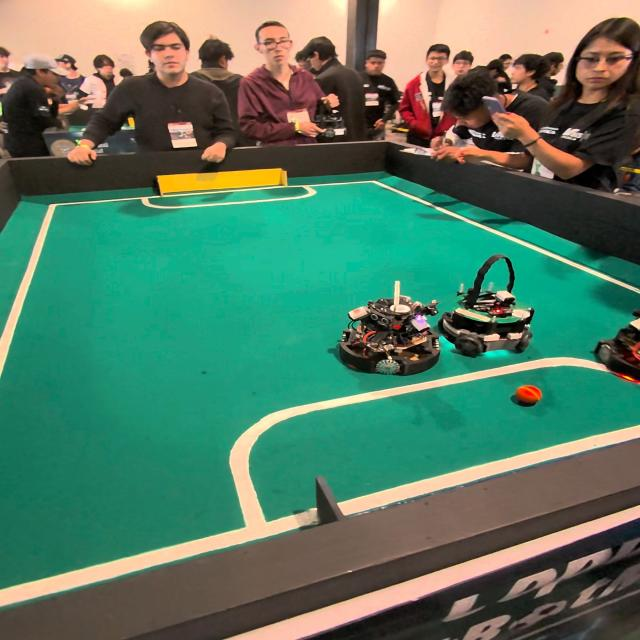Robot: (447, 244, 532, 361), (336, 282, 438, 379), (599, 304, 640, 389)
pelota: (512, 381, 544, 407)
